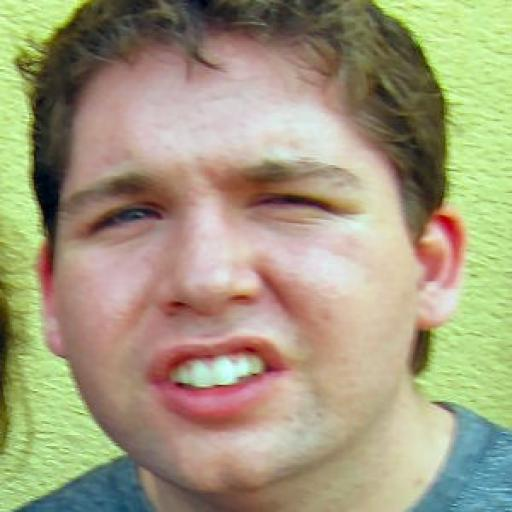Autism: (37, 19, 464, 501)
